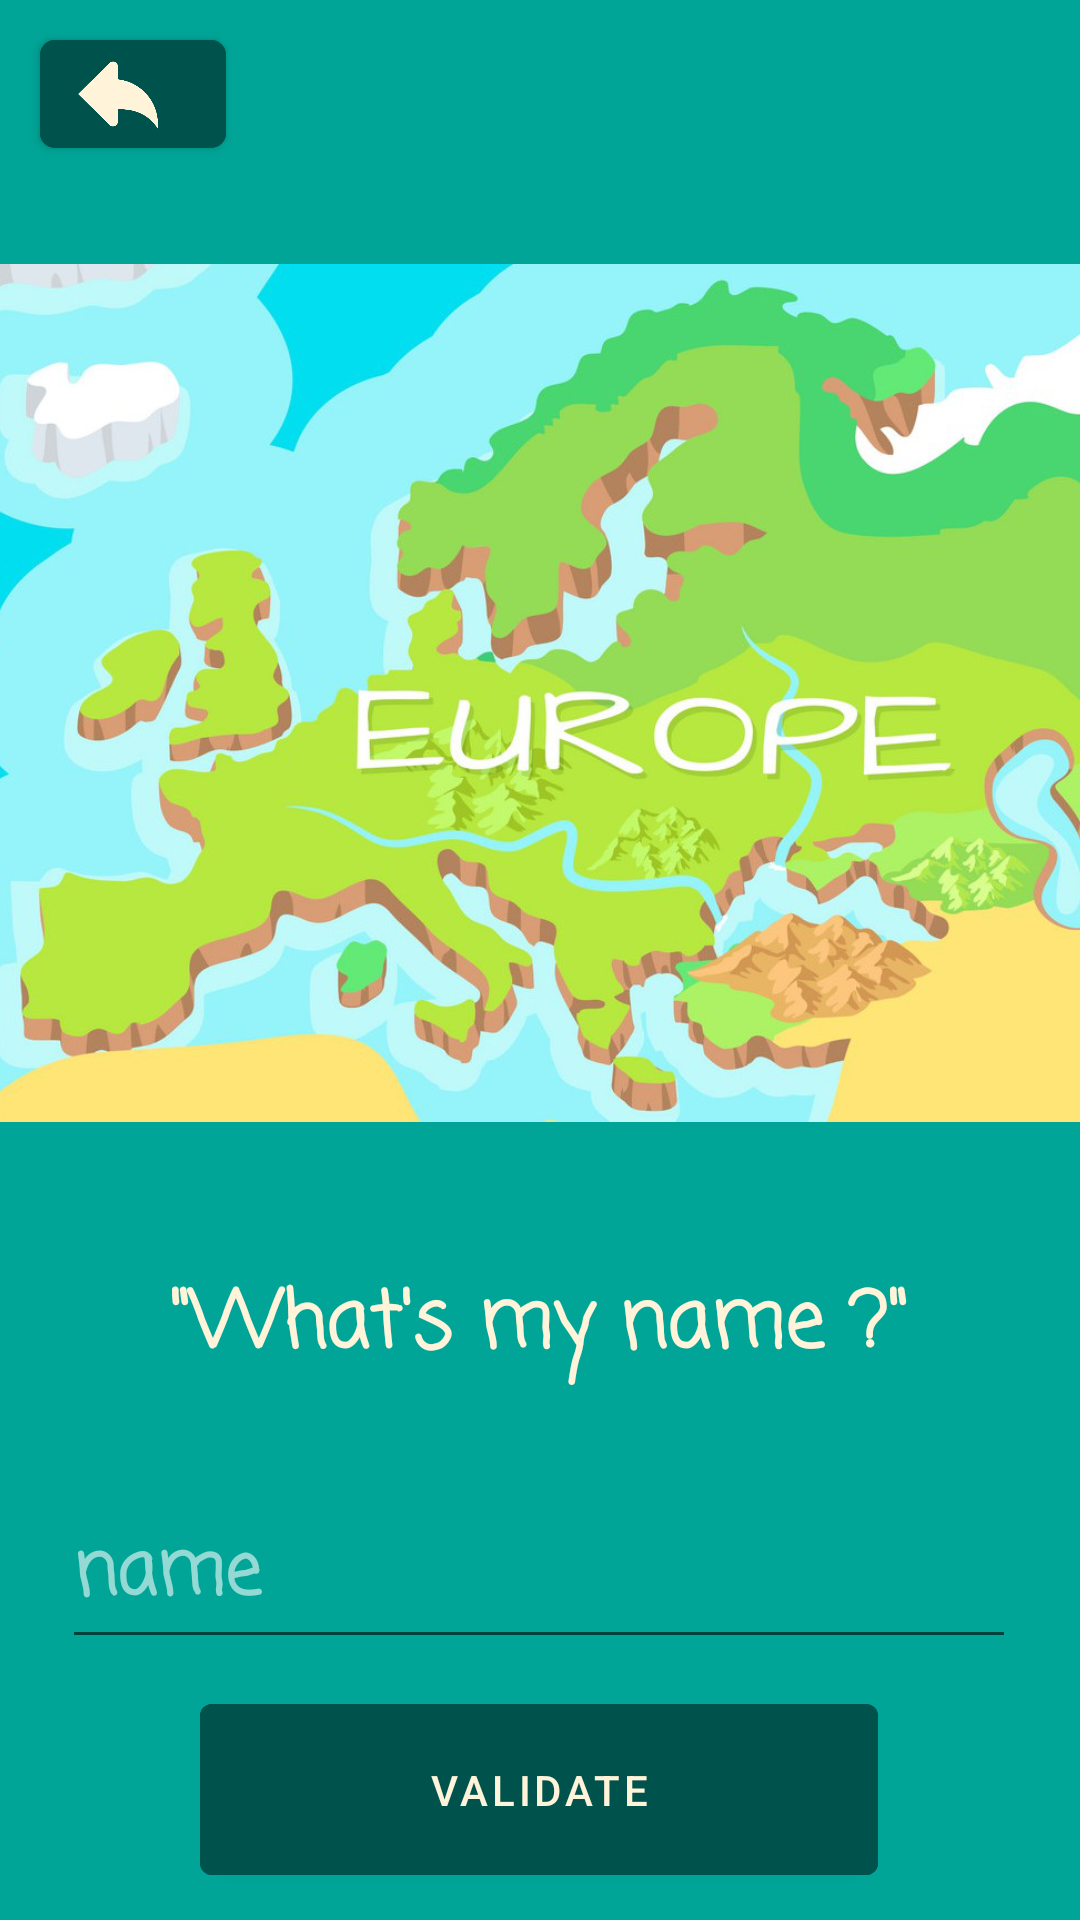

Where to tap for icons on this 1080*1920 app screen, as point (x, y):
fleche: point (133, 94)
